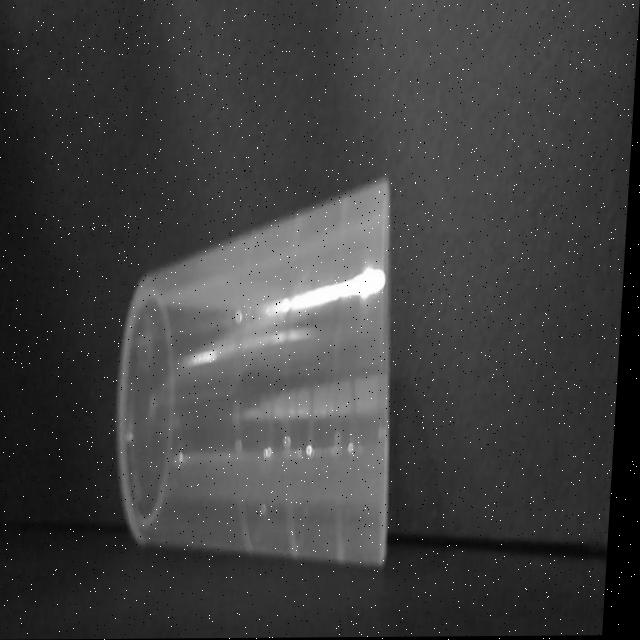cup: (123, 180, 394, 566)
